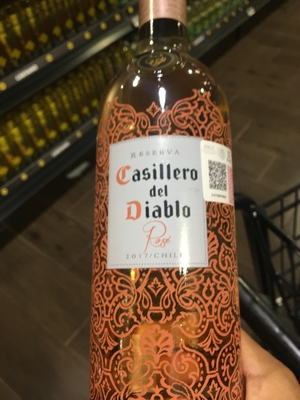casillero del diablo rose: (77, 13, 243, 400)
